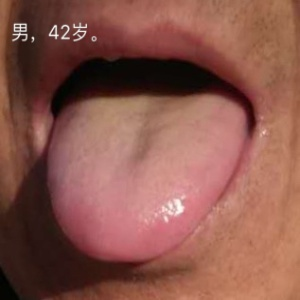st: (44, 102, 251, 270)
